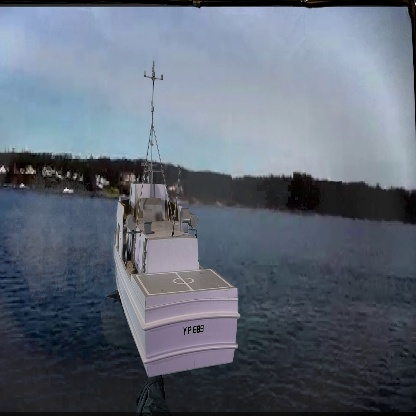YP689: (111, 58, 241, 378)
